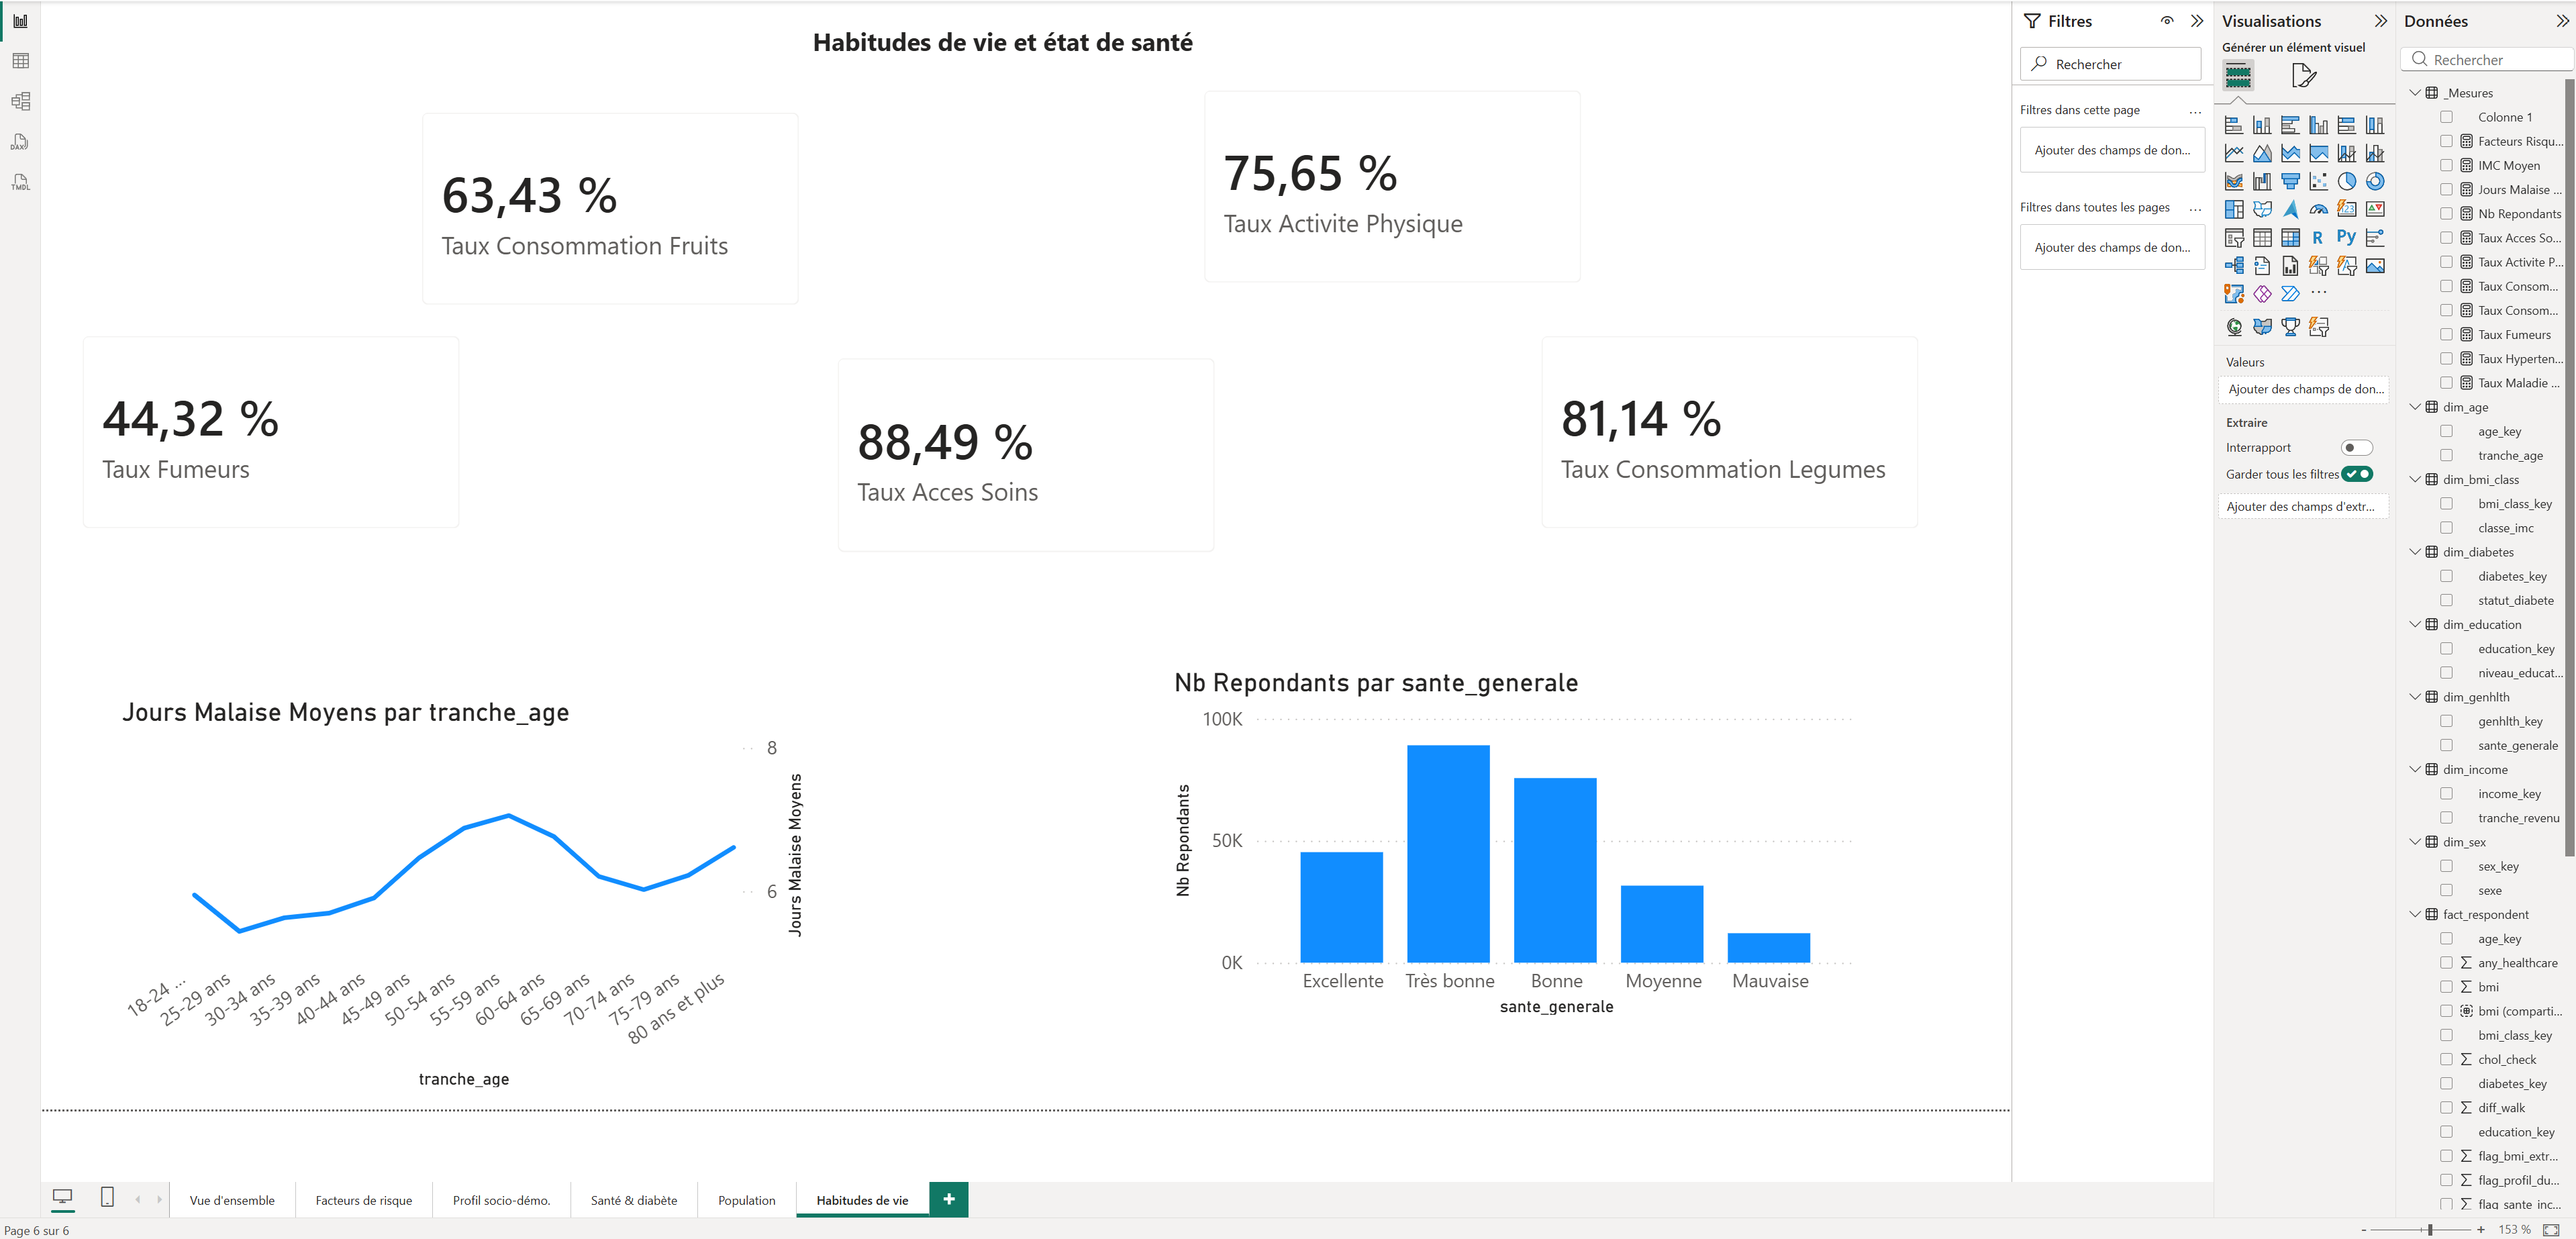

The page's visual inventory and layout, read from the dashboard file:
{"tool":"powerbi","page":{"name":"Habitudes de vie","canvas":[1280,720],"ordinal":5},"visuals":[{"type":"cardVisual","fields":{"Data":["_Mesures.Taux Fumeurs"]},"box":[9.8,200.1,279.9,159.6],"z":0},{"type":"cardVisual","fields":{"Data":["_Mesures.Taux Activite Physique"]},"box":[738.3,40.5,279.9,159.6],"z":1000},{"type":"cardVisual","fields":{"Data":["_Mesures.Taux Consommation Fruits"]},"box":[230.2,54.9,279.9,159.6],"z":2000},{"type":"cardVisual","fields":{"Data":["_Mesures.Taux Consommation Legumes"]},"box":[957.4,200.1,279.9,159.6],"z":3000},{"type":"lineChart","fields":{"Category":["dim_age.tranche_age"],"Y2":["_Mesures.Jours Malaise Moyens"]},"box":[47.7,451.2,452.5,259],"z":4000},{"type":"clusteredColumnChart","fields":{"Category":["dim_genhlth.sante_generale"],"Y":["_Mesures.Nb Repondants"]},"box":[731.1,432.3,452.5,230.8],"z":5000},{"type":"cardVisual","fields":{"Data":["_Mesures.Taux Acces Soins"]},"box":[500.3,214.5,279.9,160.2],"z":6000},{"type":"textbox","box":[481.3,9.8,287.1,35.3],"z":6001}]}

Visuals, with their boxes on the page's 1280x720 design canvas (x1, y1, x2, y2). These are canvas units, not pixel positions in the 2576x1239 screenshot, which may show the page scaled, cropped or inside an application window:
cardVisual - _Mesures.Taux Fumeurs: crop(10, 200, 290, 360)
cardVisual - _Mesures.Taux Activite Physique: crop(738, 40, 1018, 200)
cardVisual - _Mesures.Taux Consommation Fruits: crop(230, 55, 510, 214)
cardVisual - _Mesures.Taux Consommation Legumes: crop(957, 200, 1237, 360)
lineChart - dim_age.tranche_age x _Mesures.Jours Malaise Moyens: crop(48, 451, 500, 710)
clusteredColumnChart - dim_genhlth.sante_generale x _Mesures.Nb Repondants: crop(731, 432, 1184, 663)
cardVisual - _Mesures.Taux Acces Soins: crop(500, 214, 780, 375)
textbox: crop(481, 10, 768, 45)
